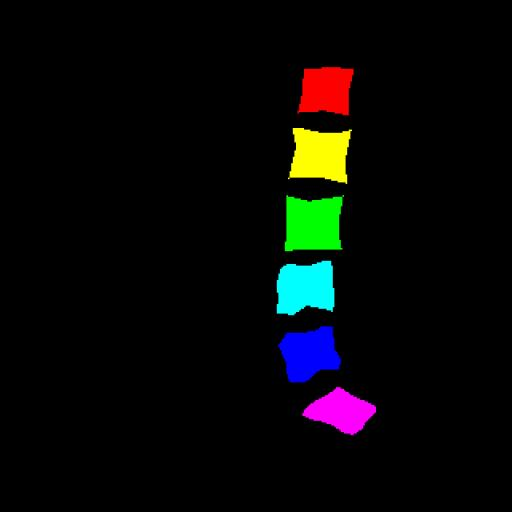L1: (298, 69, 353, 114)
L2: (289, 128, 351, 182)
L3: (285, 197, 342, 250)
L4: (277, 261, 333, 314)
L5: (279, 326, 339, 382)
S1: (303, 387, 376, 434)
